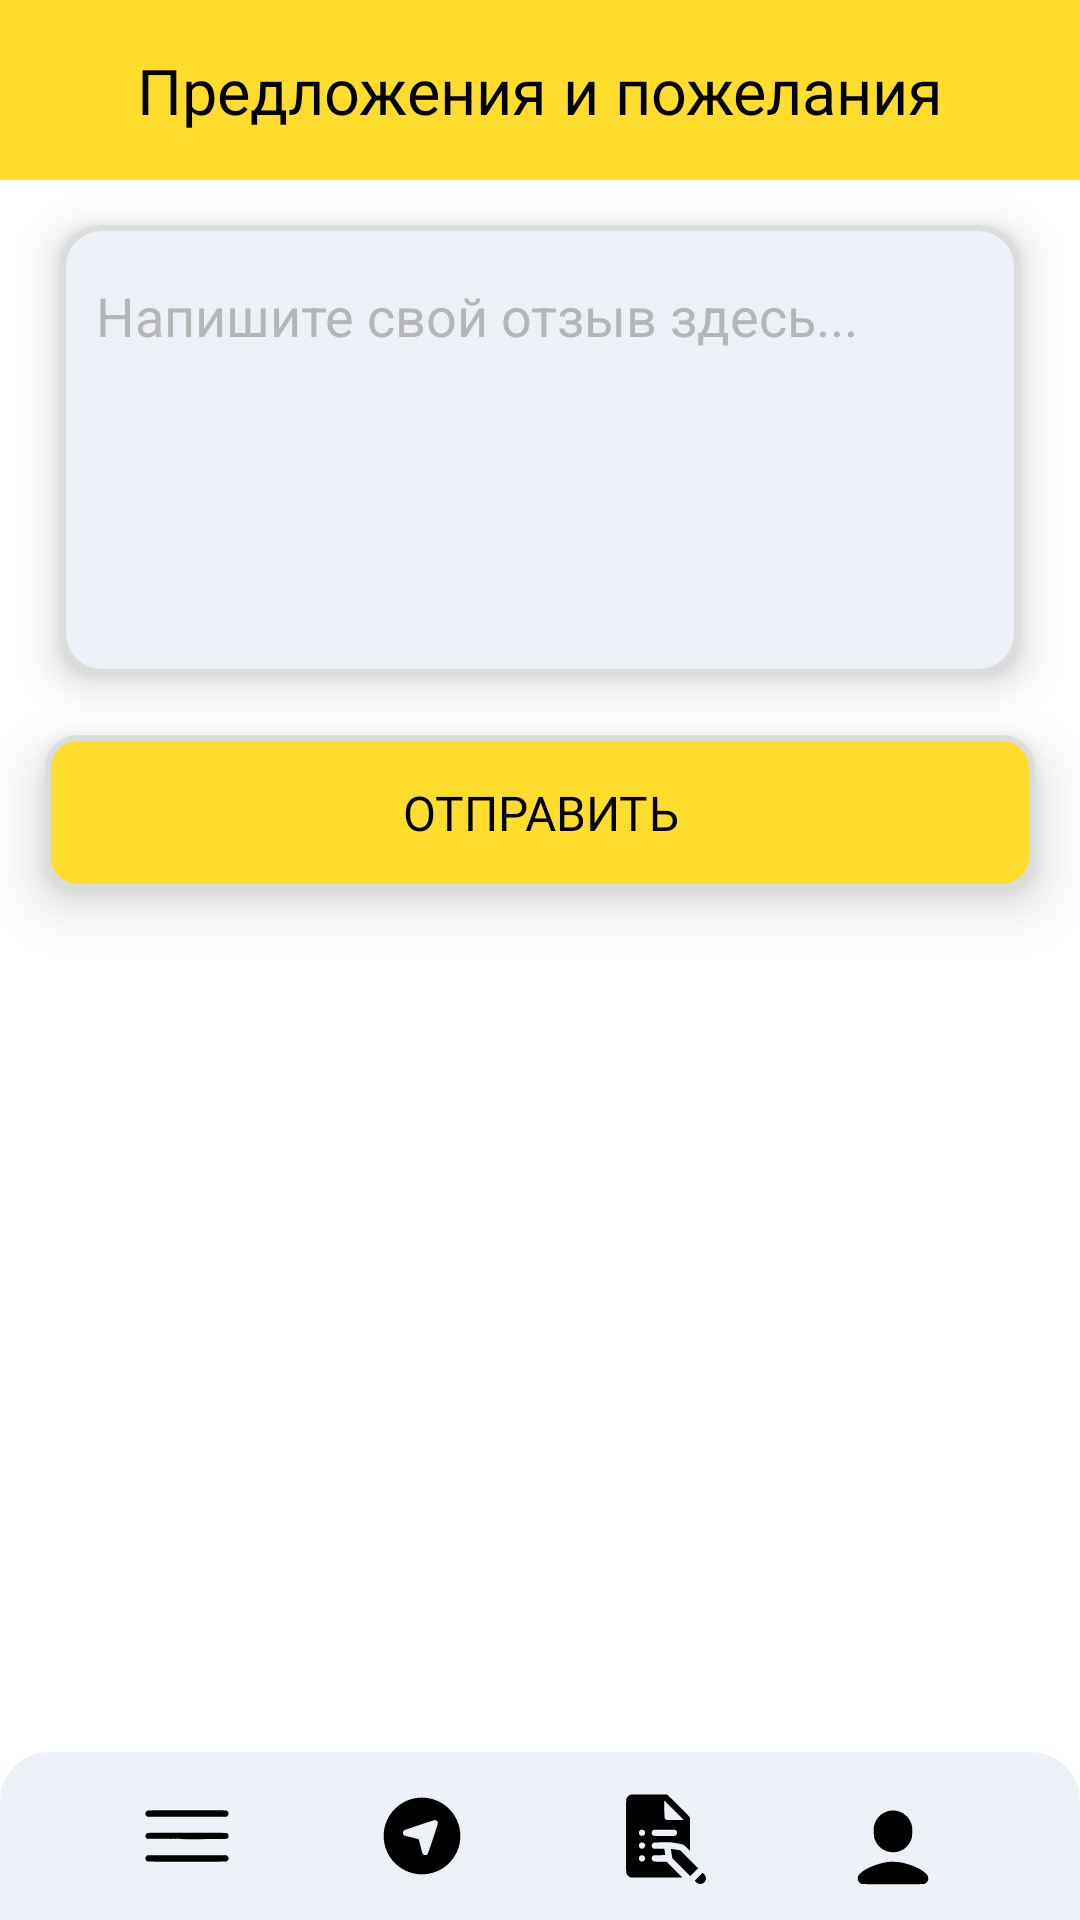

Icons on this 1080w x 1920h Android screen, each with its box as (x1, y1, x2, y2):
nav: (145, 1810, 229, 1862)
near me: (383, 1797, 461, 1875)
reservation: (626, 1794, 706, 1884)
user: (857, 1810, 929, 1885)
